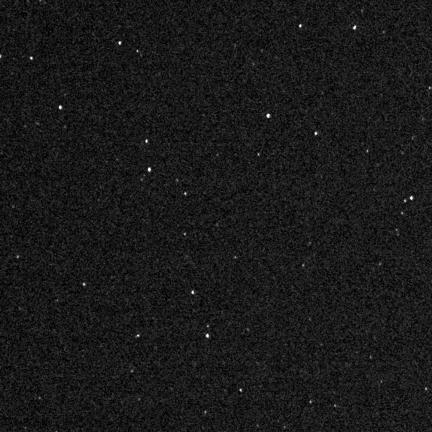blob: (206, 334, 210, 339), (30, 57, 34, 61), (299, 24, 303, 28), (148, 168, 151, 172), (184, 233, 187, 237), (136, 334, 140, 337), (192, 290, 195, 294), (410, 196, 413, 200), (184, 192, 187, 196), (267, 114, 270, 118), (83, 283, 86, 286), (353, 26, 356, 29), (59, 106, 62, 109), (119, 41, 121, 45), (146, 139, 148, 143)
